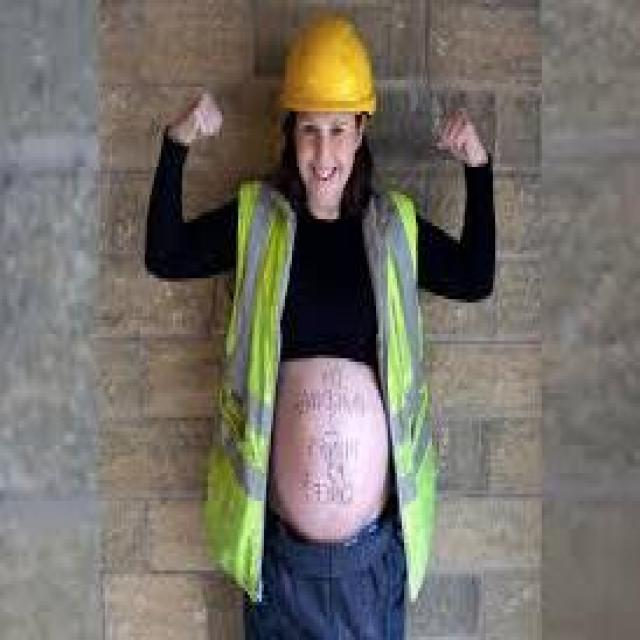Reflective-Jacket: (194, 174, 453, 609)
Safety-Helmet: (264, 4, 392, 139)
